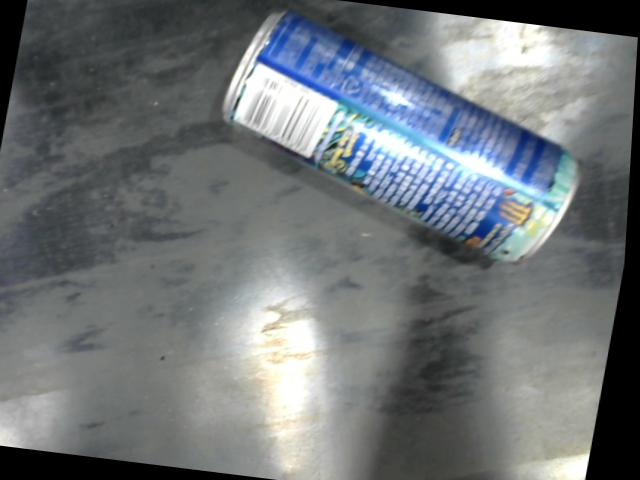can: (220, 8, 585, 266)
